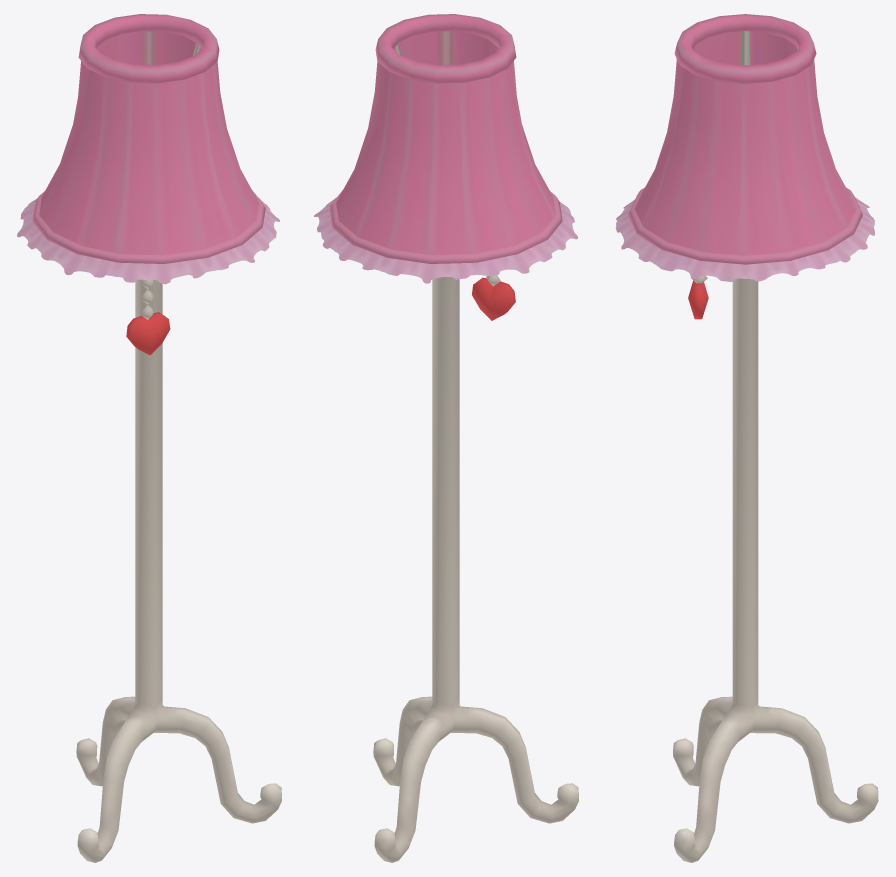
The picture shows the model from 3 angles, left to right: view 1: azimuth 30°, elevation 25°; view 2: azimuth 150°, elevation 25°; view 3: azimuth 270°, elevation 25°; orthographic projection.
Bounding box in the file's own units: 5.6 × 17.73 × 5.6.
1 material, 1 textured.
